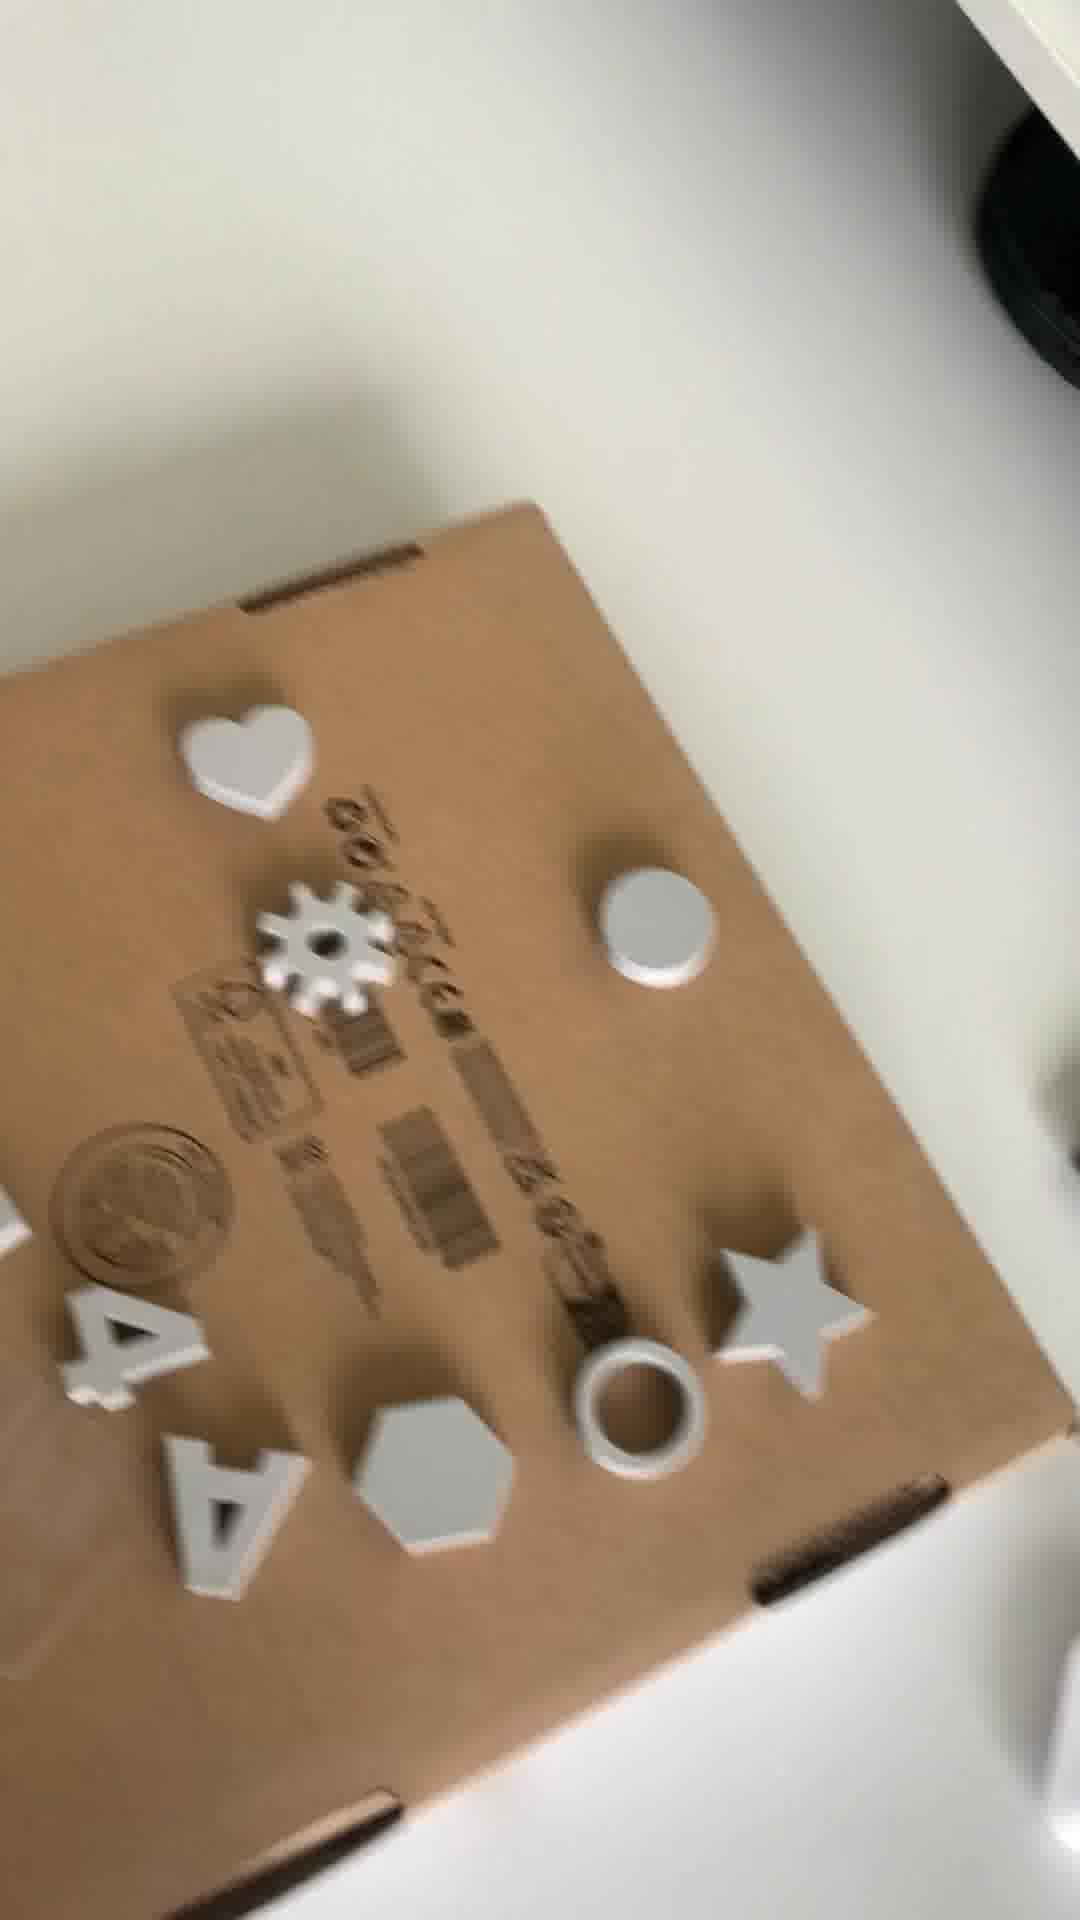Gray A-letter: (138, 1429, 334, 1607)
Gray circle: (592, 862, 721, 993)
Gray four: (51, 1275, 222, 1418)
Gray gear: (255, 862, 404, 1038)
Gray heart: (171, 703, 343, 825)
Gray hexagon: (343, 1395, 527, 1578)
Gray ring: (572, 1336, 700, 1485)
Gray star: (707, 1236, 876, 1403)
